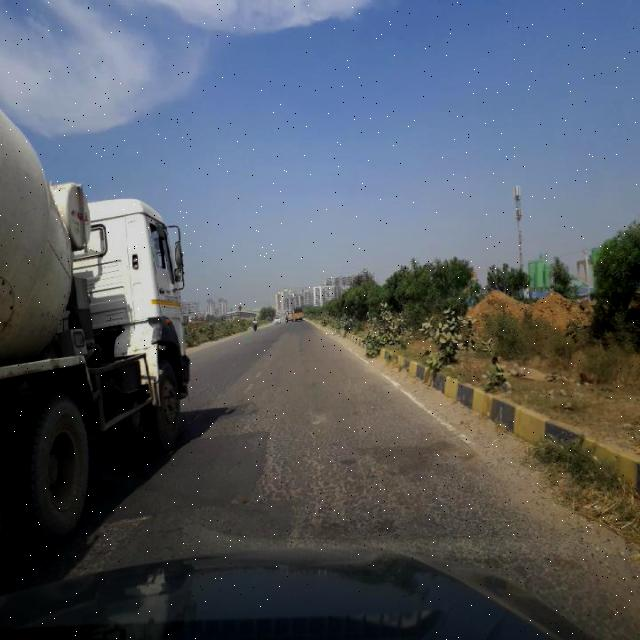D20: (162, 412, 578, 550)
